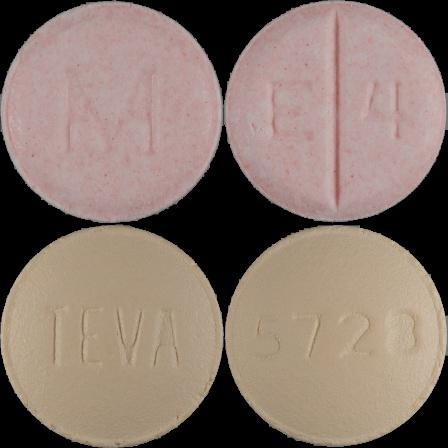55289-761: (0, 0, 224, 224)
